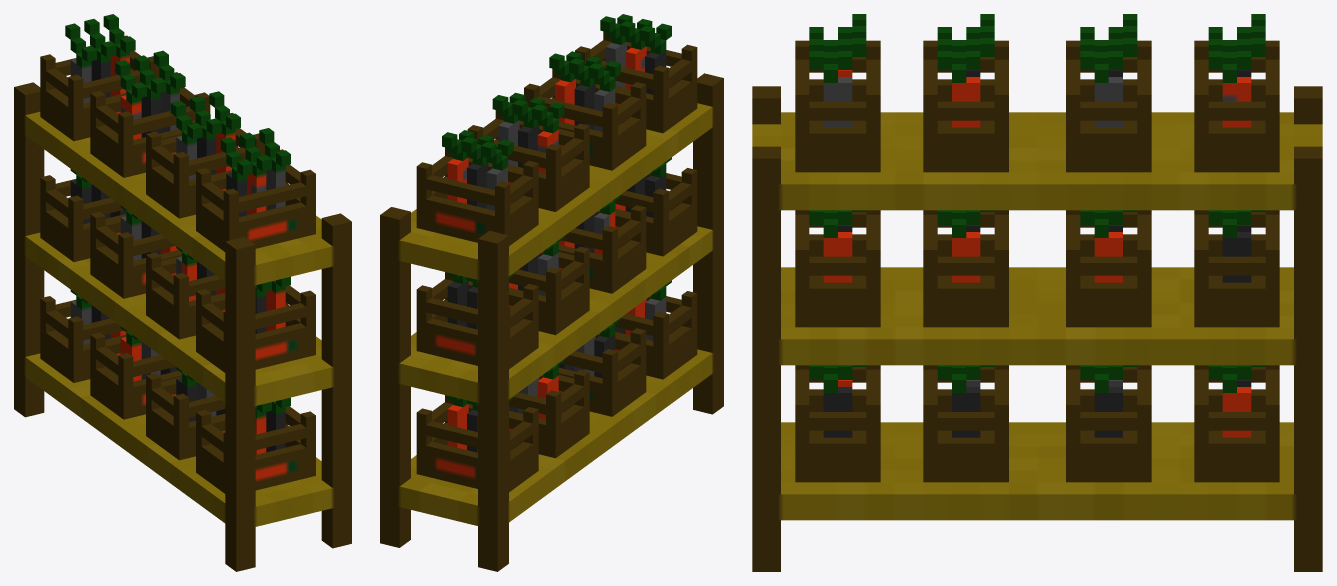
The model's file is chapter2_carrotshelf_bug.fbx.
The picture shows the model from 3 angles, left to right: view 1: azimuth 30°, elevation 25°; view 2: azimuth 150°, elevation 25°; view 3: azimuth 270°, elevation 25°; orthographic projection. The views are drawn at different scales.
Parts seen in each view (by area): view 1: Matrix_130; view 2: Matrix_130; view 3: Matrix_130.
Part boxes in pixels (x1,y1,x2,y2): Matrix_130: [14, 14, 351, 571]; Matrix_130: [380, 14, 723, 571]; Matrix_130: [752, 14, 1322, 571].
Bounding box in the file's own units: 12 × 39 × 40.
